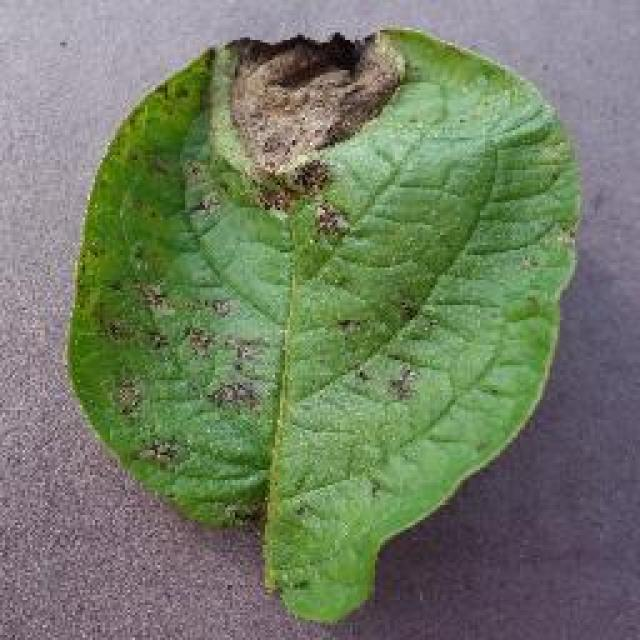Potato: (62, 22, 582, 622)
